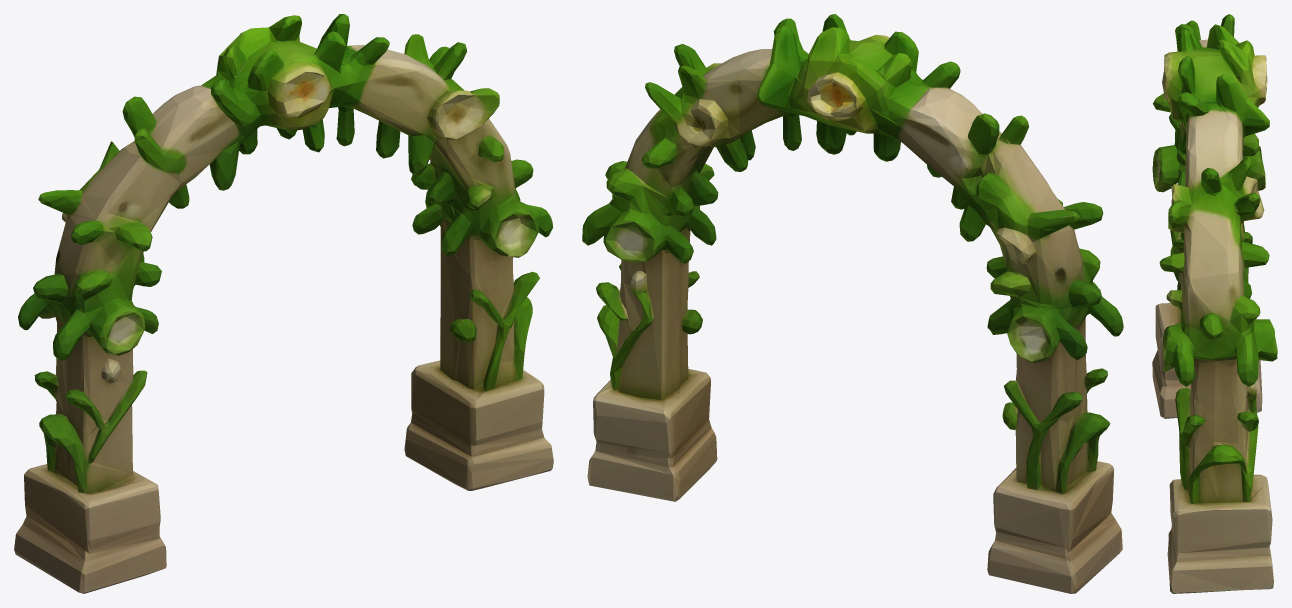
File: arch.glb
3 views of the same model, side by side, from view 1: azimuth 30°, elevation 25°; view 2: azimuth 150°, elevation 25°; view 3: azimuth 270°, elevation 25° (orthographic). The views are drawn at different scales.
Parts seen in each view (by area): view 1: geometry_0; view 2: geometry_0; view 3: geometry_0.
Boxes of the visible parts, box(x1,y1,x2,y2) form: geometry_0: box(14, 14, 553, 593); geometry_0: box(582, 14, 1123, 593); geometry_0: box(1152, 14, 1277, 593).
Bounding box in the file's own units: 0.9988 × 0.9349 × 0.236.
Materials: 1 (1 with a texture image).
